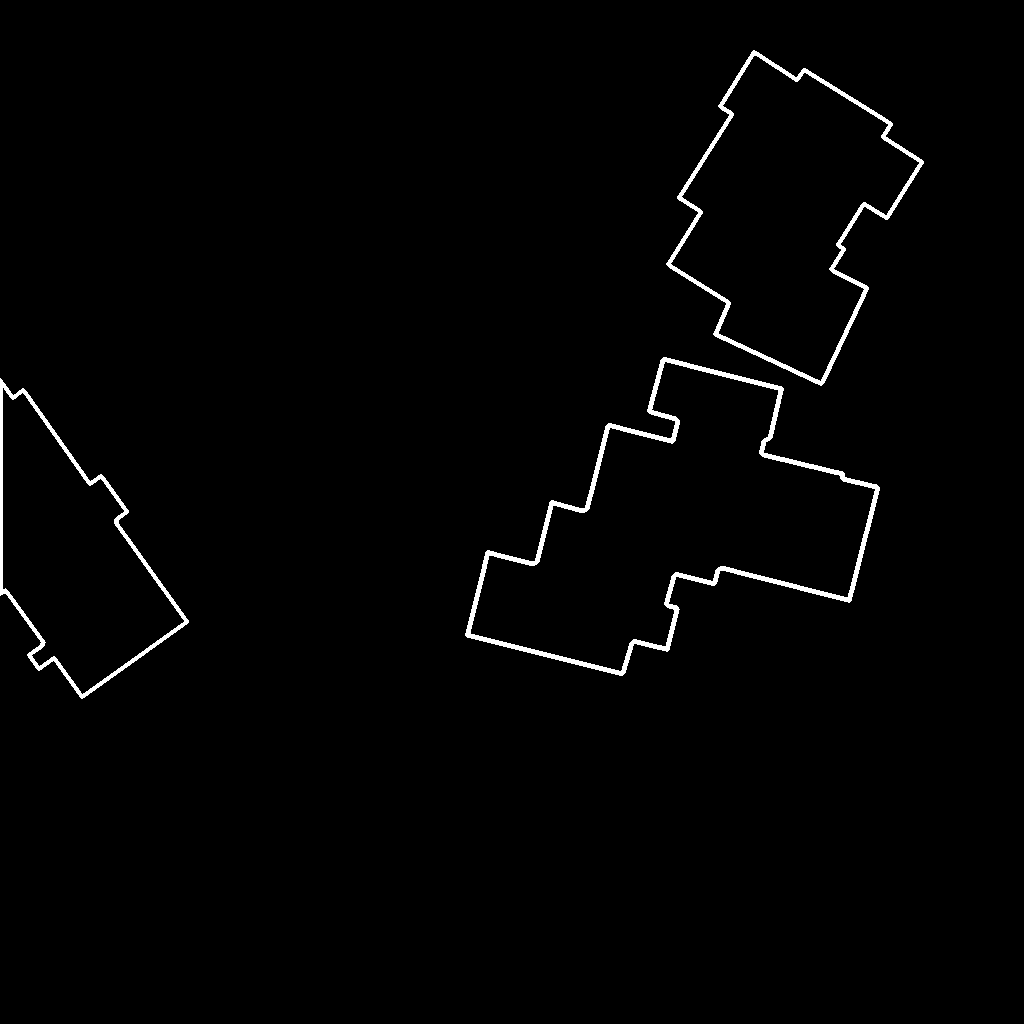building: (467, 359, 879, 675), (668, 52, 923, 385), (0, 380, 188, 698)
